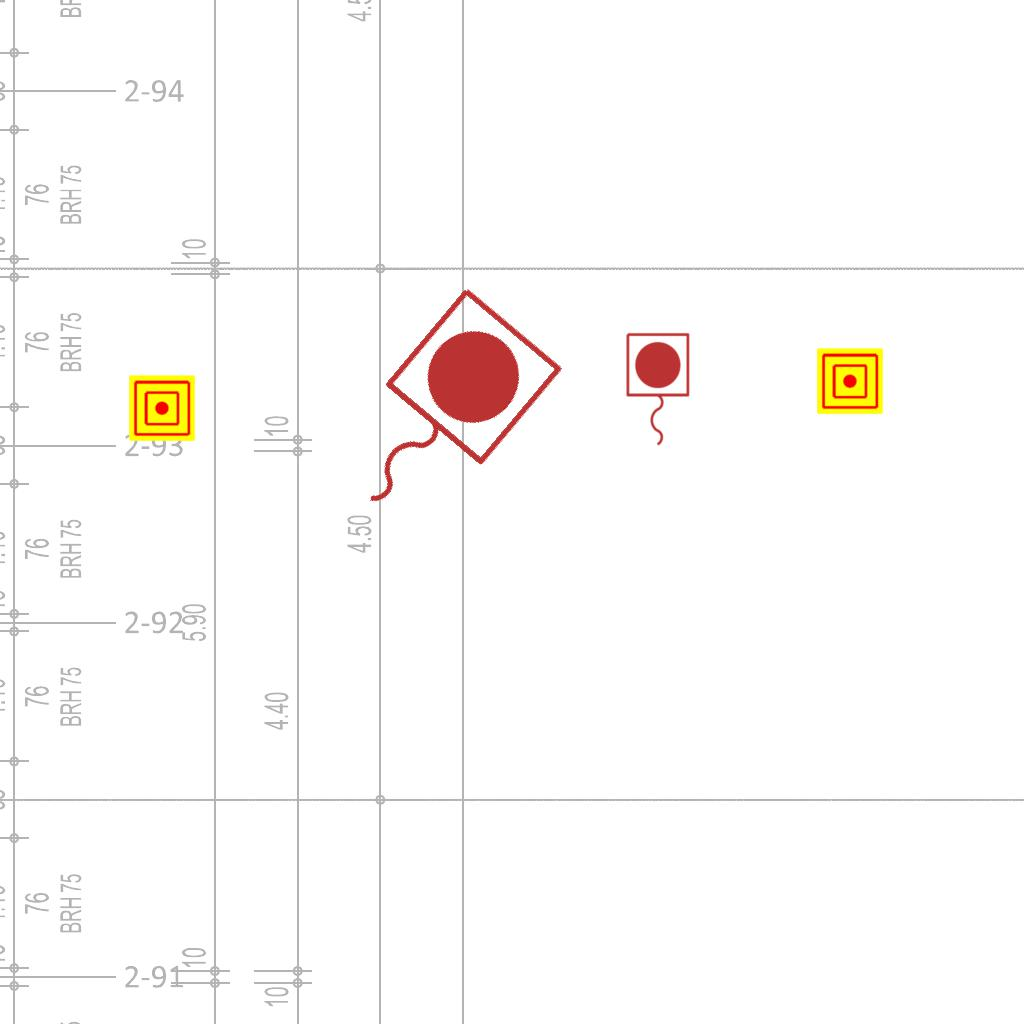NAM-Nichtautomatischer_Melder: (817, 348, 883, 414), (129, 375, 195, 441)
Zugtaster: (306, 274, 574, 554), (621, 329, 693, 451)
